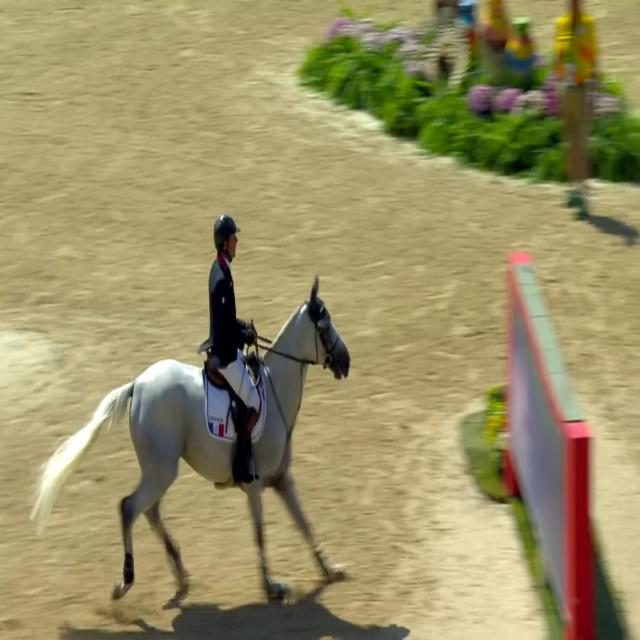Horse Rider: (29, 295, 365, 620)
